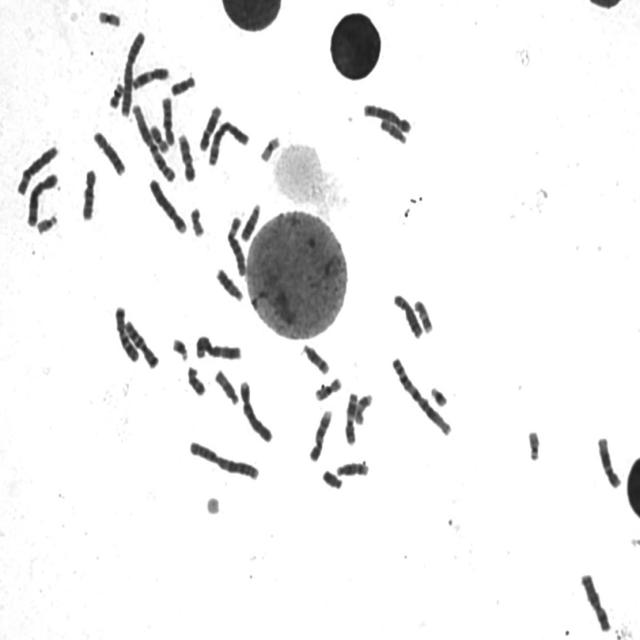A1: (389, 352, 454, 437), (129, 98, 178, 184)
A2: (186, 434, 262, 482), (119, 28, 148, 118)
A3: (205, 114, 251, 168), (193, 330, 244, 362)
B4: (146, 173, 189, 236), (237, 376, 275, 444)
B5: (24, 168, 61, 228), (361, 99, 413, 134)
C10: (79, 164, 98, 222), (158, 92, 178, 147)
C11: (128, 61, 172, 91), (343, 388, 359, 447)
C12: (594, 431, 624, 490), (197, 100, 224, 153)
C6: (14, 140, 61, 197), (224, 212, 249, 278)
C7: (122, 315, 161, 370), (112, 301, 141, 364)
C8: (90, 126, 128, 177), (390, 288, 424, 340)
C9: (307, 405, 334, 463), (175, 129, 198, 183)
D13: (213, 264, 246, 302), (238, 198, 262, 242)
D14: (299, 339, 332, 376), (334, 457, 371, 478)
D15: (212, 366, 241, 406), (378, 114, 409, 145)
E16: (312, 371, 345, 402), (148, 119, 170, 154)
E17: (411, 296, 435, 334), (352, 388, 375, 426)
E18: (168, 71, 198, 97), (185, 362, 207, 397)
F19: (257, 130, 283, 164), (95, 5, 123, 28)
F20: (188, 202, 207, 238), (106, 78, 126, 110)
G21: (169, 333, 190, 362), (428, 381, 450, 408)
G22: (34, 209, 60, 235), (525, 425, 542, 462)
X: (578, 569, 613, 633)
Y: (319, 464, 345, 490)
